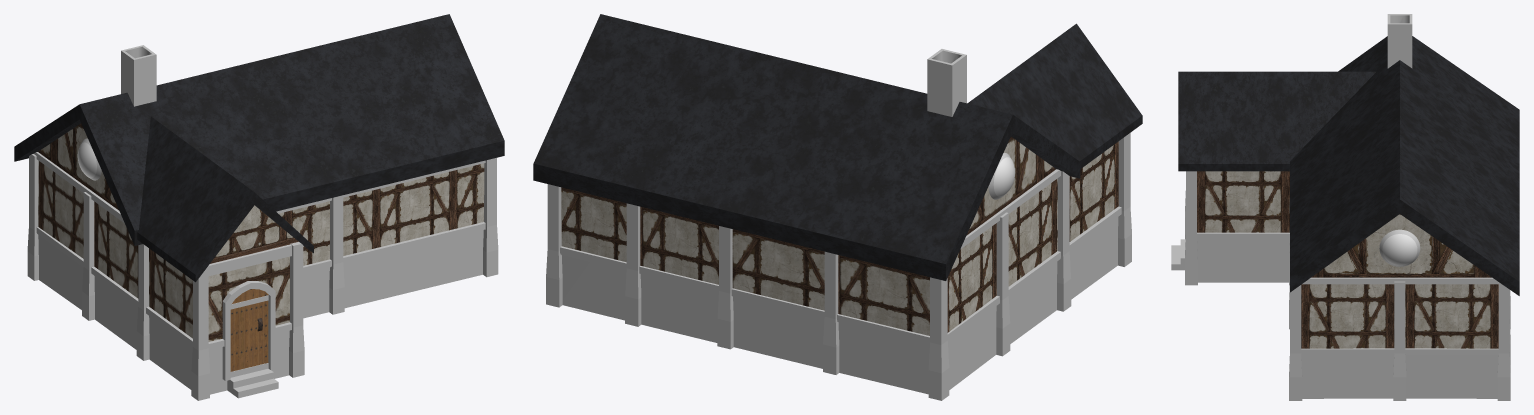
The model's file is Casa Puerta Lateral Dcha.fbx.
The picture shows the model from 3 angles, left to right: view 1: azimuth 30°, elevation 25°; view 2: azimuth 150°, elevation 25°; view 3: azimuth 270°, elevation 25°; orthographic projection. The views are drawn at different scales.
Visible parts, largest first — view 1: CASA_PUERTA_LATERAL_IZQ; view 2: CASA_PUERTA_LATERAL_IZQ; view 3: CASA_PUERTA_LATERAL_IZQ.
Boxes of the visible parts, left/top/right/bottom form: CASA_PUERTA_LATERAL_IZQ: left=14, top=14, right=504, bottom=400; CASA_PUERTA_LATERAL_IZQ: left=533, top=14, right=1142, bottom=400; CASA_PUERTA_LATERAL_IZQ: left=1171, top=14, right=1519, bottom=400.
Bounding box in the file's own units: 1260 × 818 × 1069.
